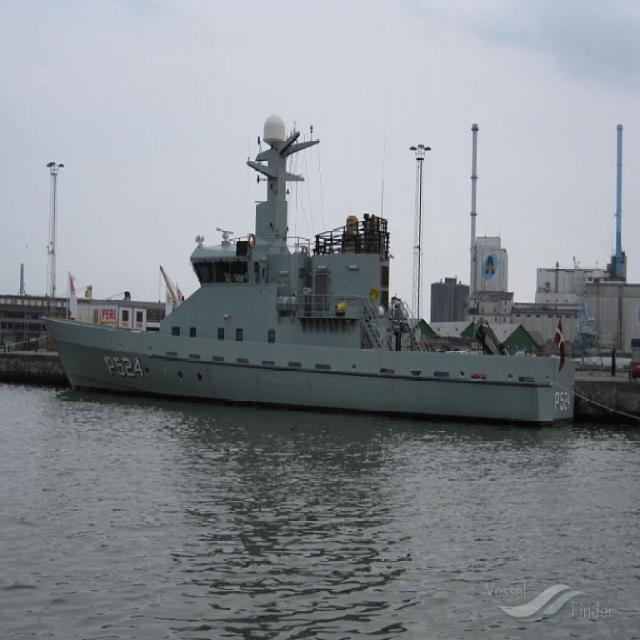OCR: (106, 350, 144, 380)
